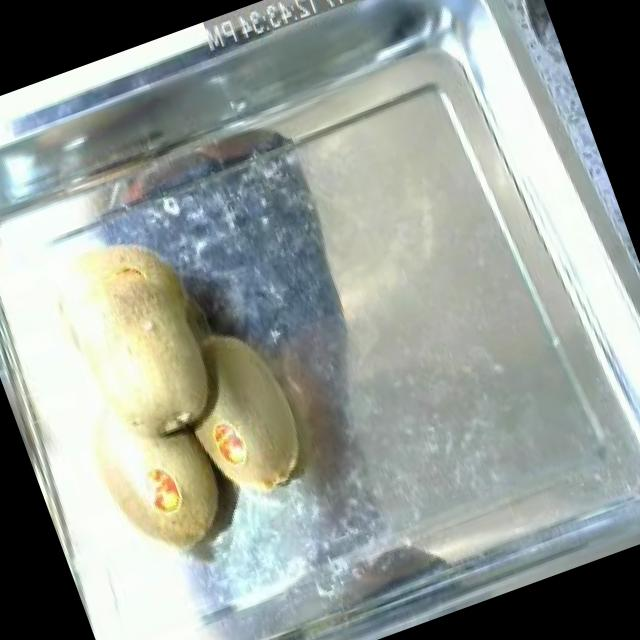Fruit: (18, 211, 248, 478), (152, 295, 360, 522)
